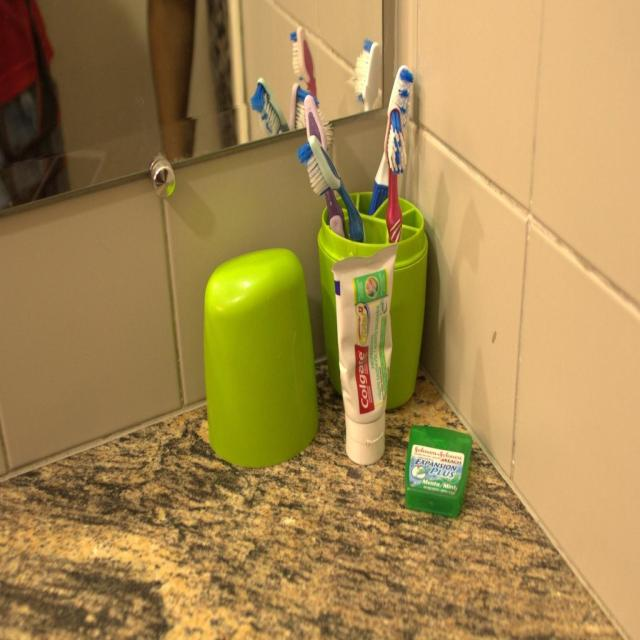Toothpaste: (308, 251, 403, 468)
